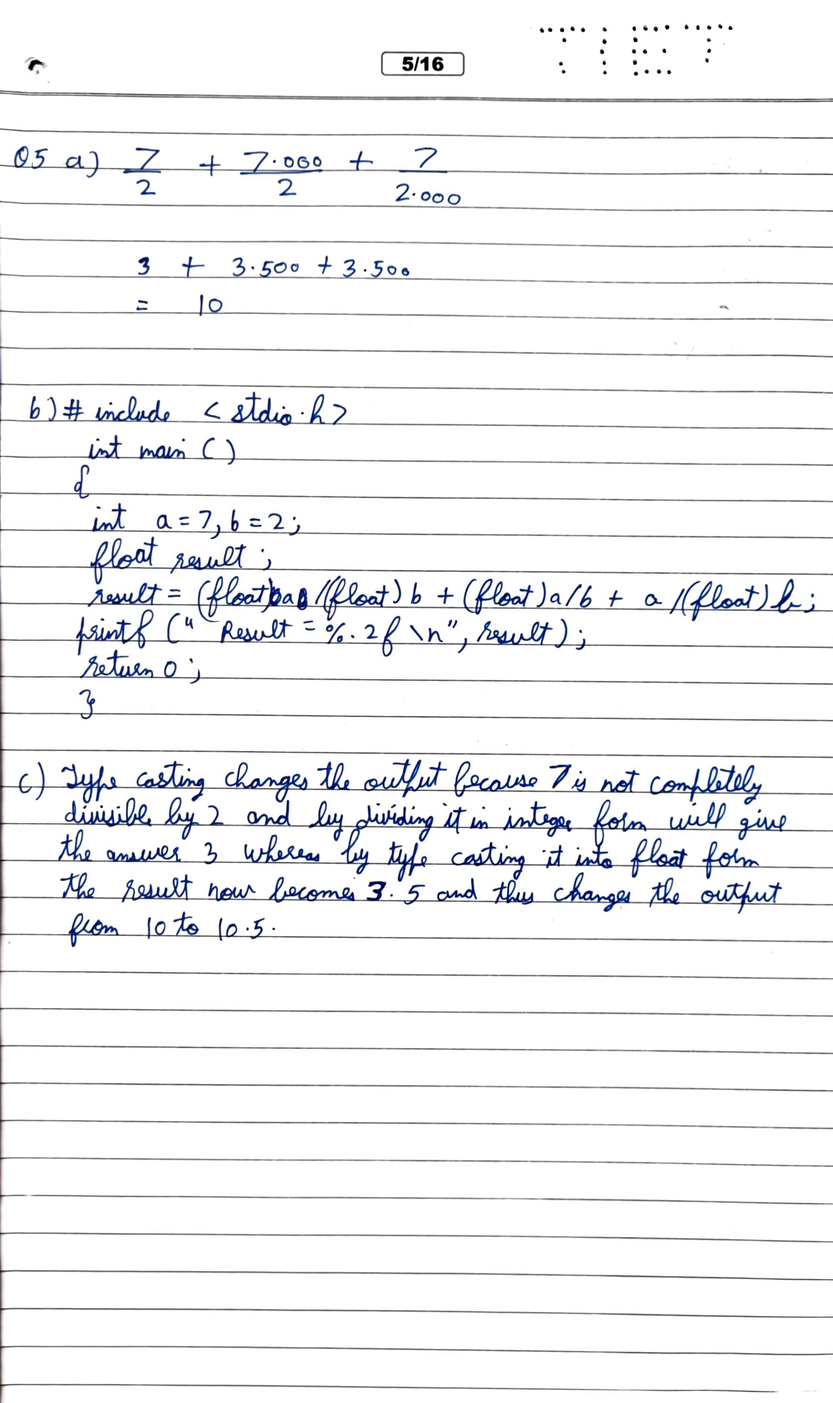cuttings: (296, 587, 308, 611), (269, 587, 282, 607)
